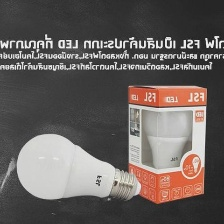carton: (124, 79, 209, 206)
light_bulb: (11, 126, 145, 208), (141, 93, 198, 189)
